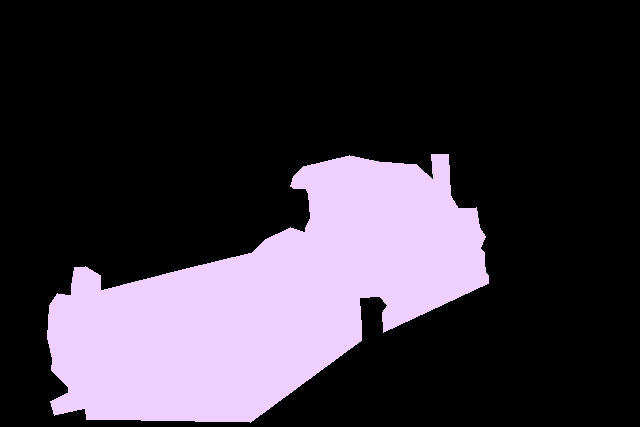Train: (47, 154, 488, 422)
